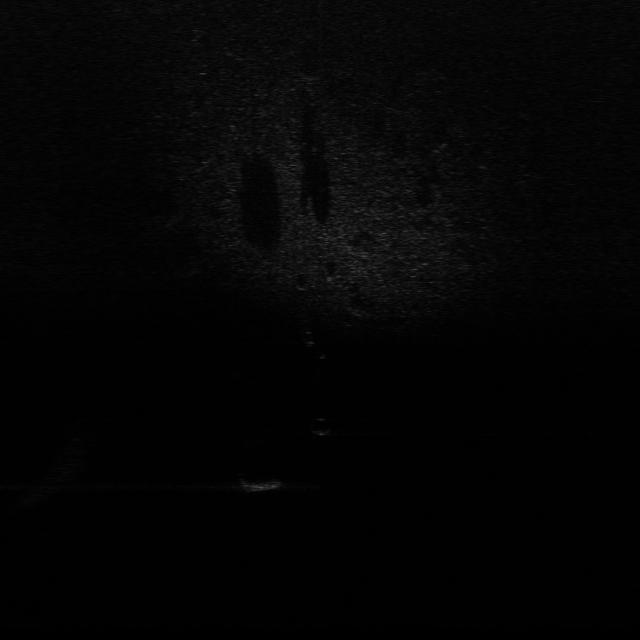ball: (307, 414, 338, 436)
human body: (290, 316, 330, 362)
square cage: (232, 473, 292, 494)
